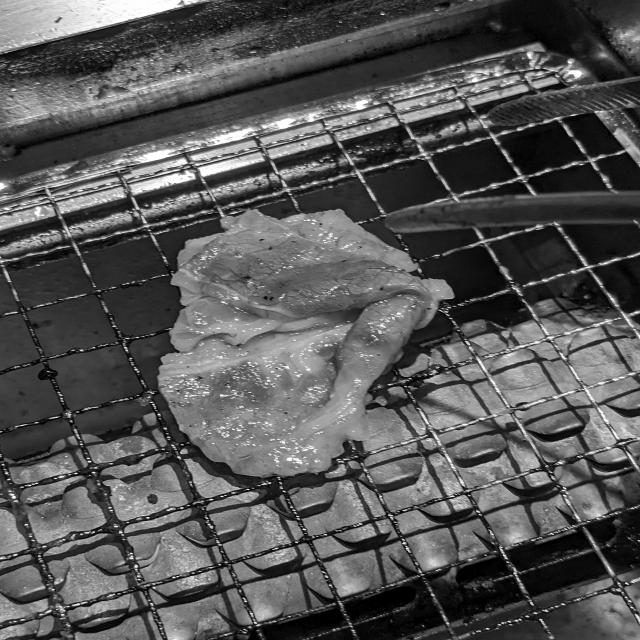OK undercooked beef,: (135, 197, 469, 500)
